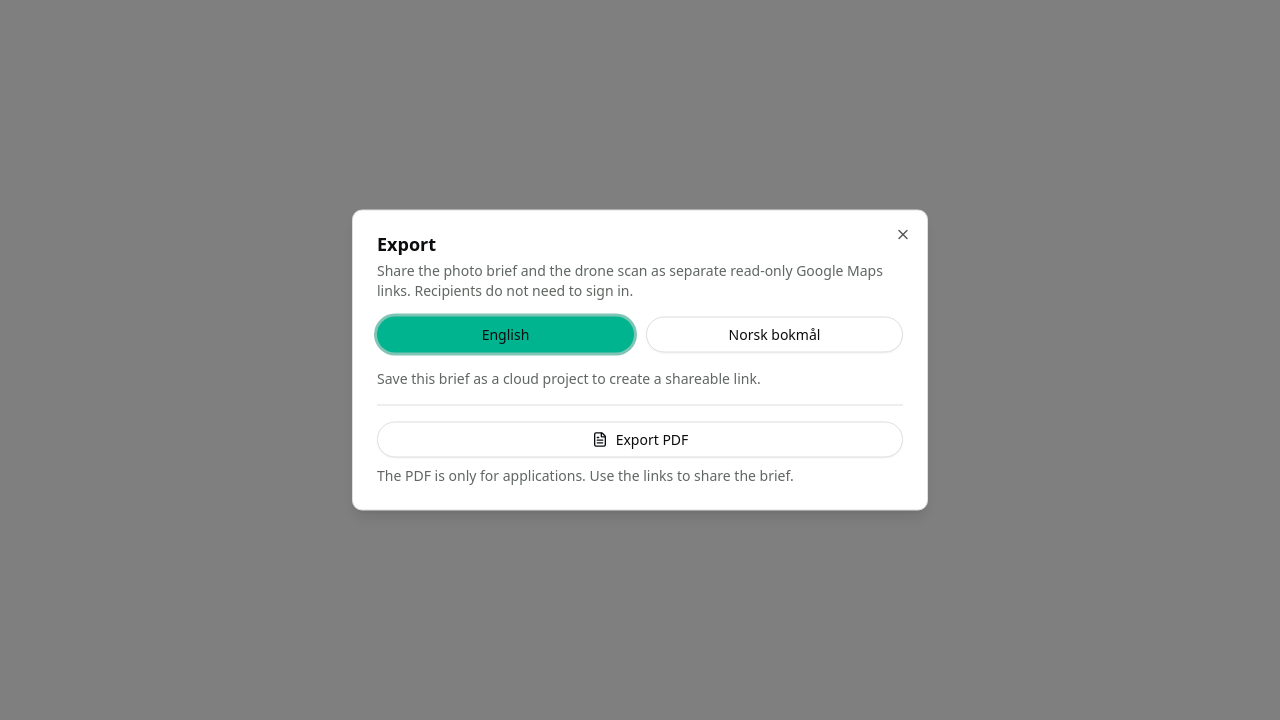
explains why a local draft cannot create a public link and still offers PDF download
The image size is (1280, 720).
Expected: the text "Save this brief as a cloud project to create a shareable link." is shown, [377, 368, 761, 388]
Click the button "Export PDF" at {"x": 640, "y": 440}, box [377, 422, 903, 458]
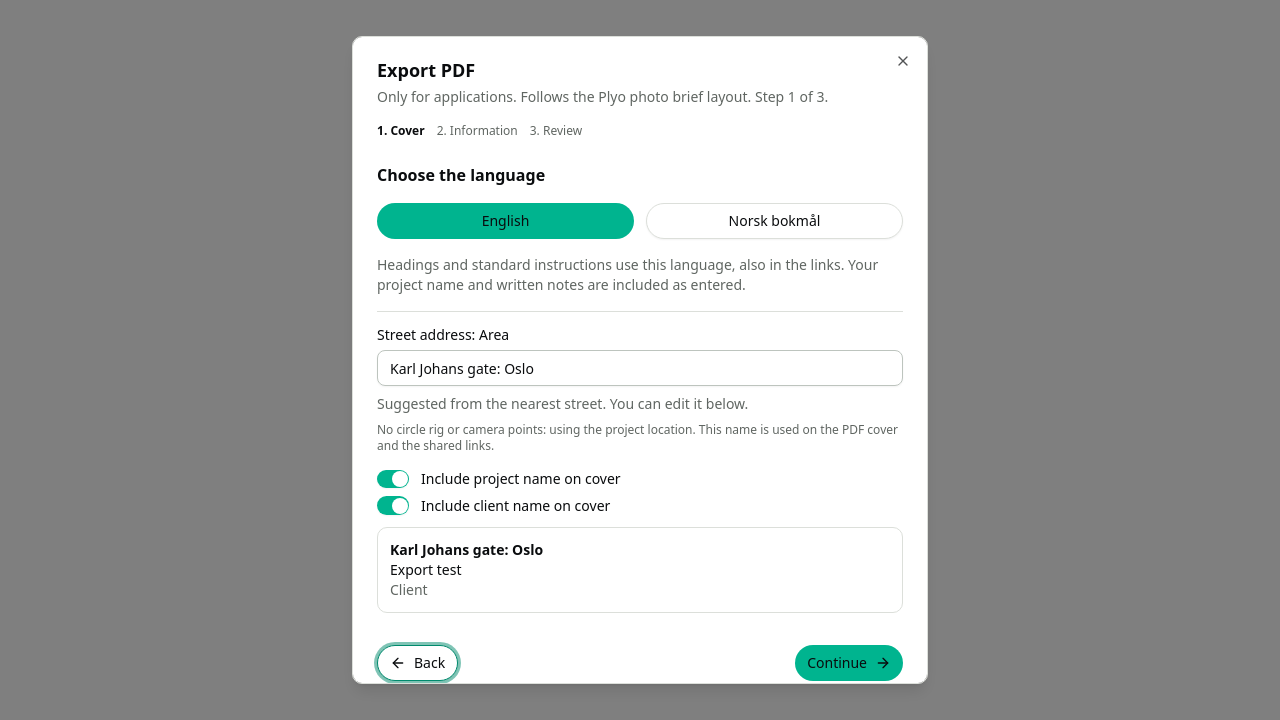
Click the button "Continue" at {"x": 849, "y": 663}, box [795, 645, 903, 681]
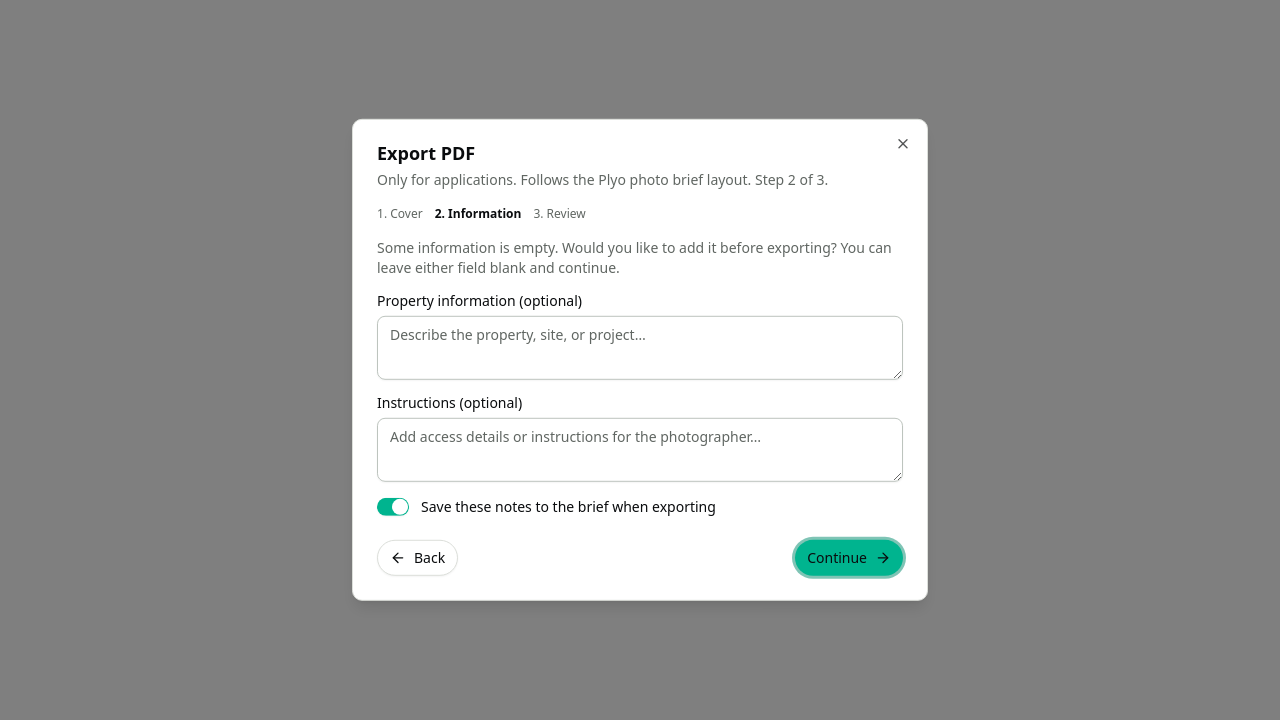
Click the button "Continue" at {"x": 849, "y": 558}, box [795, 540, 903, 576]
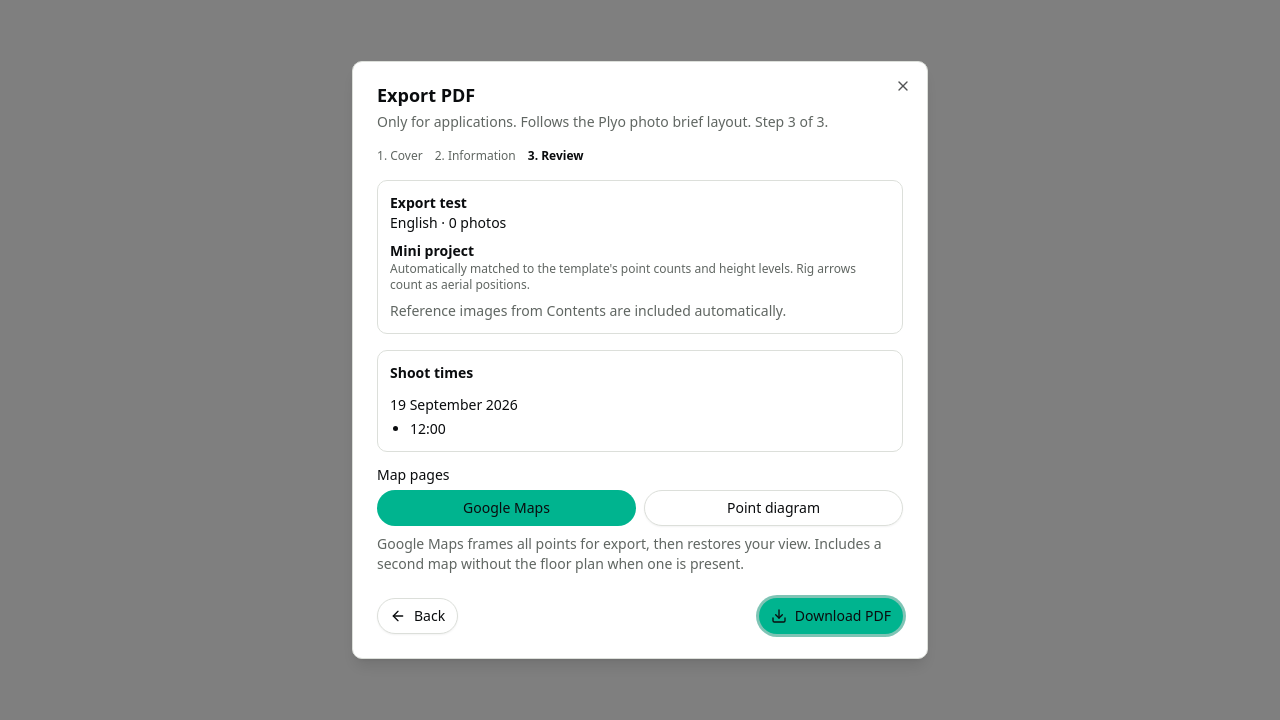
Now the button "Download PDF" is shown, box [759, 598, 903, 634]
Now the element named "PDF map source" is shown, box [377, 490, 903, 526]
